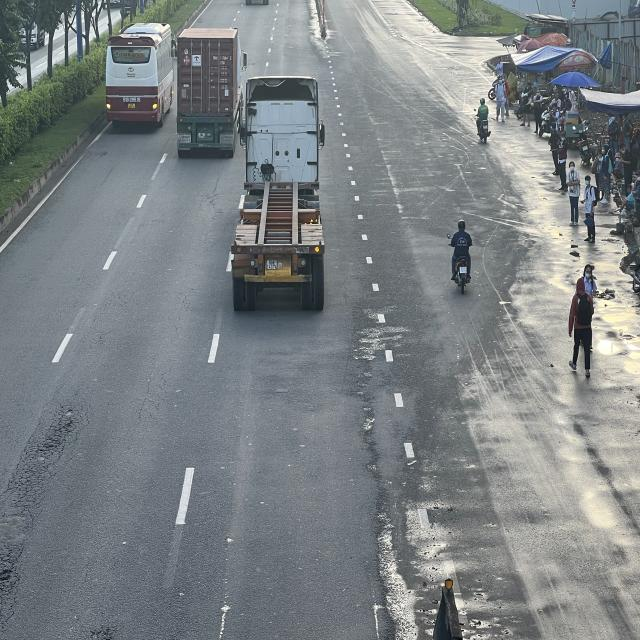coach: (106, 25, 177, 131)
container: (233, 75, 325, 310), (176, 27, 247, 158)
